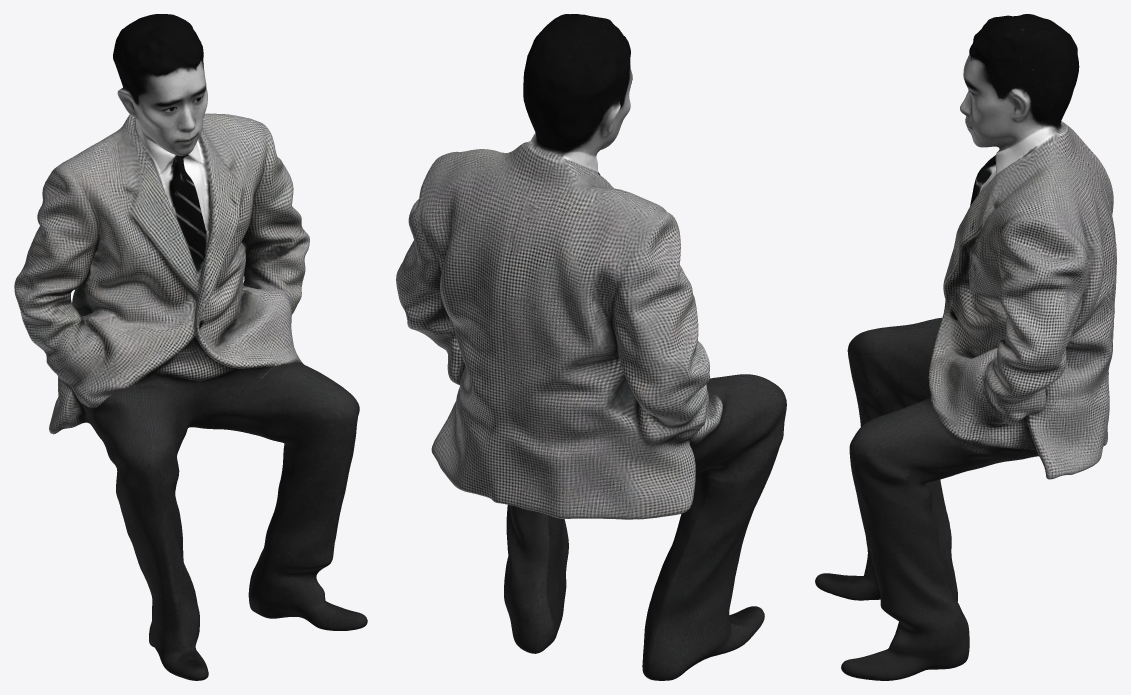
File: Meshy_AI_Quiet_Resolve_1025090053_texture.compressed.glb
3 views of the same model, side by side, from view 1: azimuth 30°, elevation 25°; view 2: azimuth 150°, elevation 25°; view 3: azimuth 270°, elevation 25° (orthographic). The views are drawn at different scales.
Size of the model in its own units: 0.9329 by 1.9 by 0.848.
Materials: 1 (1 with a texture image).
